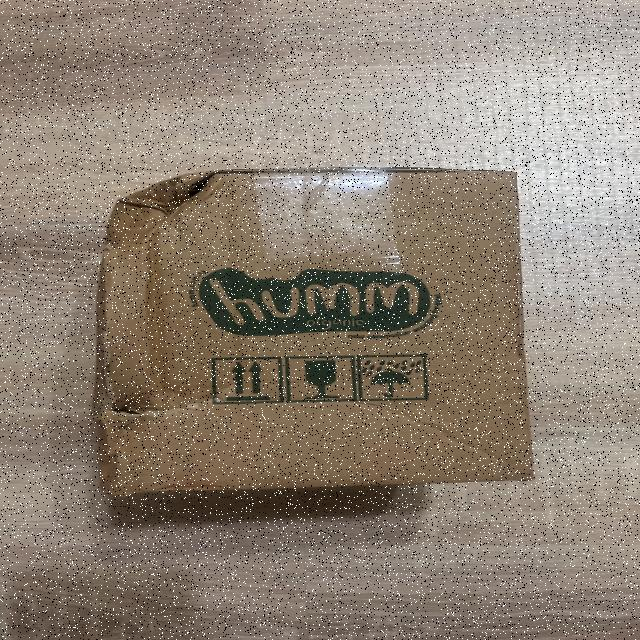damaged: (90, 162, 552, 498), (82, 151, 226, 271), (82, 360, 199, 453)
